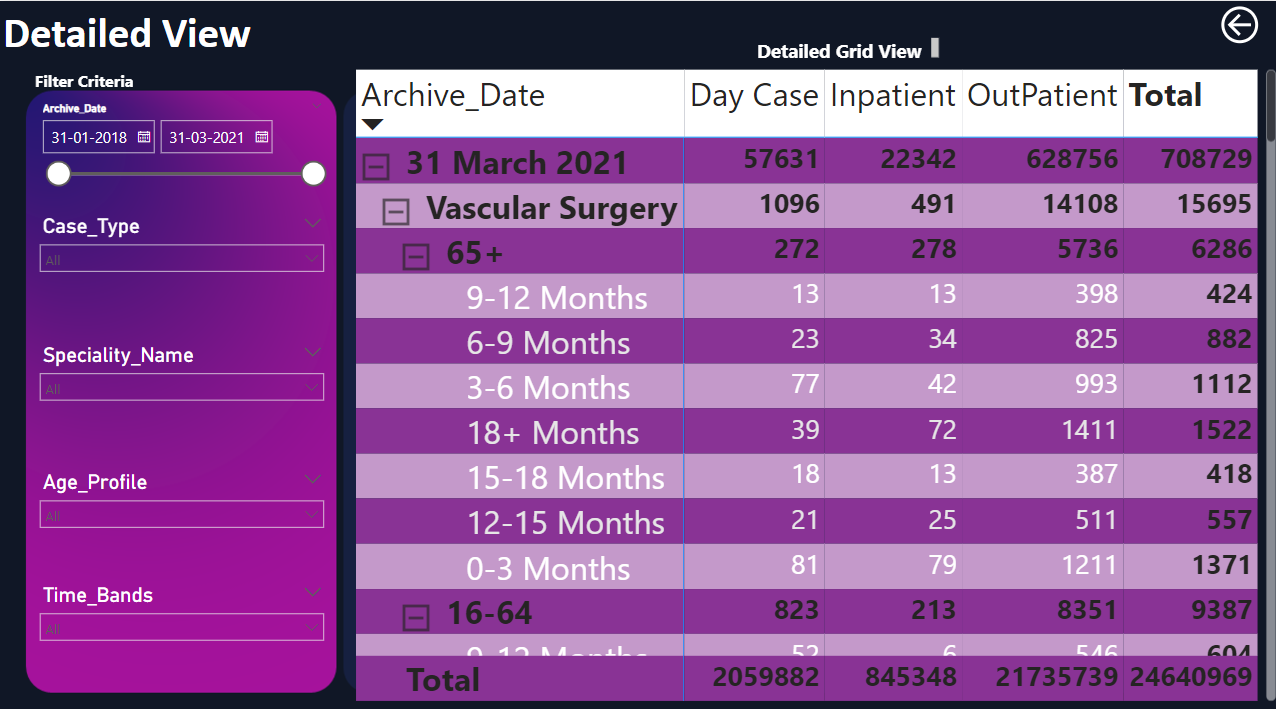

Layout of this report page (visuals, bound fields, positions):
{"tool":"powerbi","page":{"name":"Detail","canvas":[1280,720],"ordinal":1},"visuals":[{"type":"slicer","fields":{"Values":["All_Data.Speciality_Name"]},"box":[32,336,304,96],"z":0},{"type":"slicer","fields":{"Values":["All_Data.Archive_Date"]},"box":[32,96,304,112],"z":1000},{"type":"slicer","fields":{"Values":["All_Data.Case_Type"]},"box":[32,208,304,96],"z":2000},{"type":"textbox","box":[0,0,272,80],"z":3000},{"type":"slicer","fields":{"Values":["All_Data.Age_Profile"]},"box":[32,464,304,80],"z":4000},{"type":"slicer","fields":{"Values":["All_Data.Time_Bands"]},"box":[32,576,304,96],"z":5000},{"type":"pivotTable","fields":{"Rows":["All_Data.Archive_Date","All_Data.Speciality_Name","All_Data.Age_Profile","All_Data.Time_Bands"],"Columns":["All_Data.Case_Type"],"Values":["Sum(All_Data.Total)"]},"box":[352,64,928,640],"z":6000},{"type":"textbox","box":[32,64,128,32],"z":7000},{"type":"textbox","box":[752,32,192,32],"z":8000},{"type":"actionButton","box":[1216,0,48,48],"z":9000}]}

Visuals, with their boxes in screenshot pixels (x1, y1, x2, y2), scaled from the page's 1280x720 canvas onto the 1276x709 screenshot:
slicer - All_Data.Speciality_Name: <box>32,331,335,425</box>
slicer - All_Data.Archive_Date: <box>32,95,335,205</box>
slicer - All_Data.Case_Type: <box>32,205,335,299</box>
textbox: <box>0,0,271,79</box>
slicer - All_Data.Age_Profile: <box>32,457,335,536</box>
slicer - All_Data.Time_Bands: <box>32,567,335,662</box>
pivotTable - All_Data.Archive_Date x All_Data.Speciality_Name: <box>351,63,1275,693</box>
textbox: <box>32,63,160,95</box>
textbox: <box>750,32,941,63</box>
actionButton: <box>1212,0,1260,47</box>
